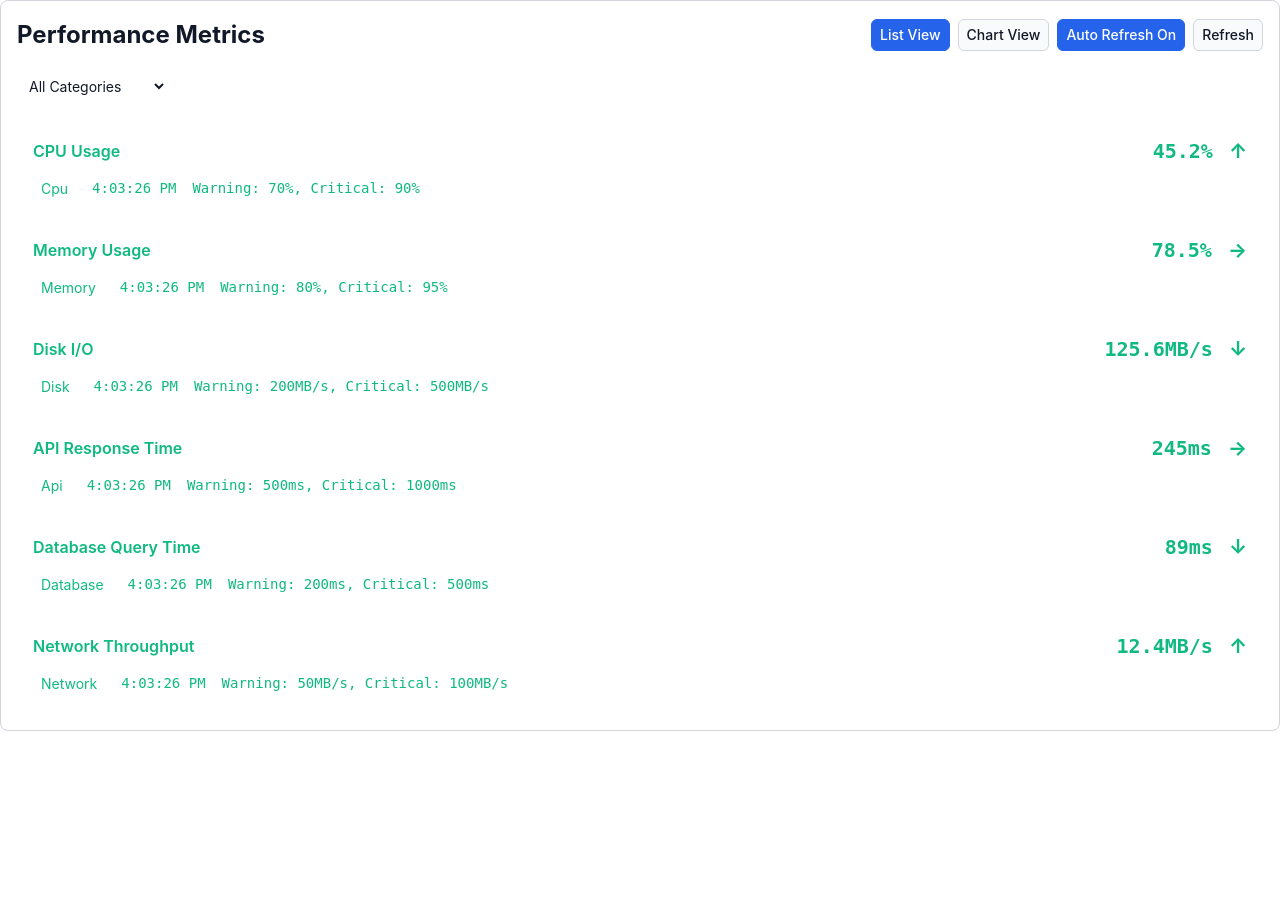
PerformanceMetrics Component › toggles auto refresh
Expected: the heading "Performance Metrics" is shown, [17, 17, 265, 53]
// Click to turn off
Click the button "Auto Refresh On". click: (1121, 35)
box: [1057, 19, 1185, 51]
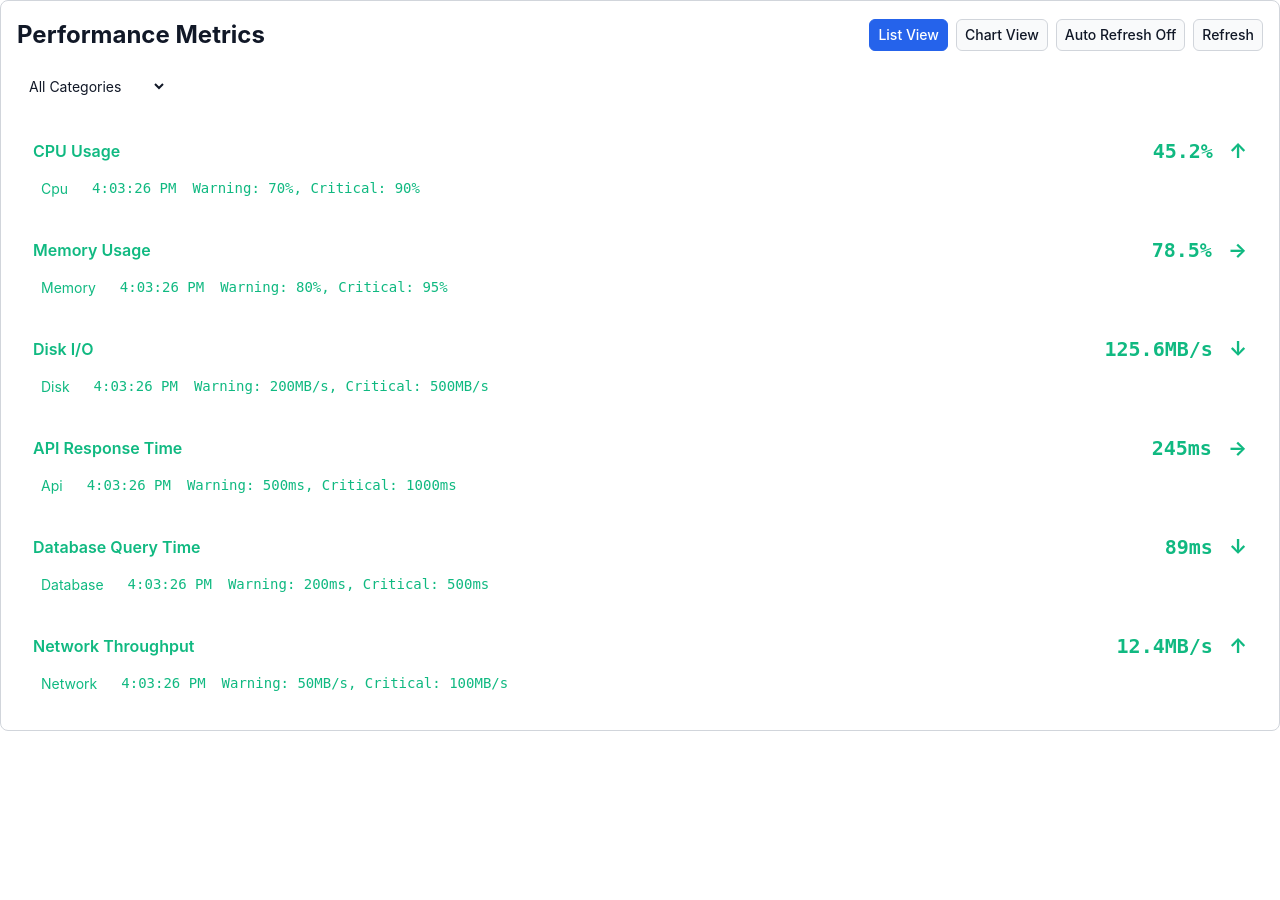
Expected: the text "Auto Refresh Off" is shown, [1065, 26, 1176, 44]
// Click to turn on
Click the button "Auto Refresh Off". click: (1121, 35)
box: [1056, 19, 1185, 51]
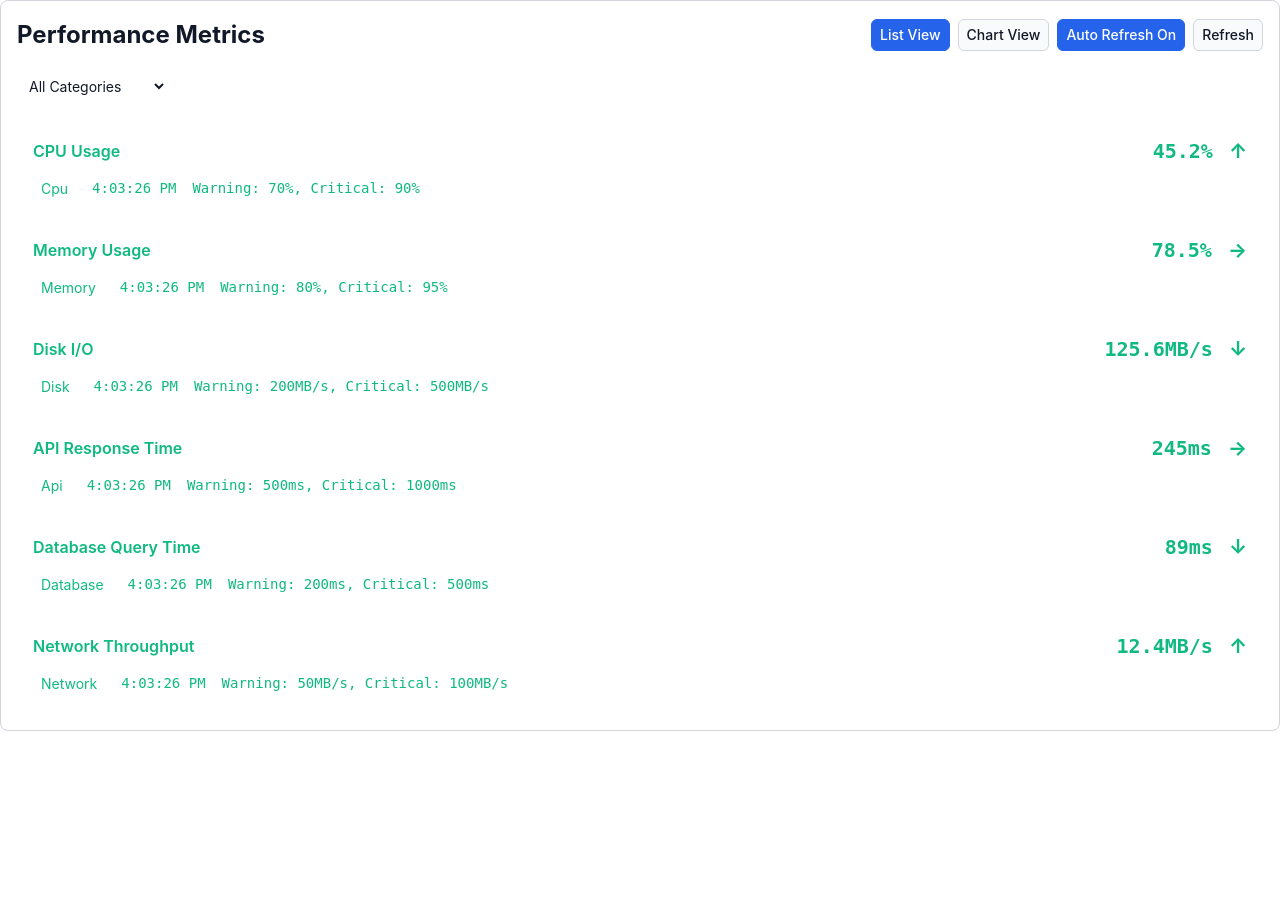
Expected: the text "Auto Refresh On" is shown, [1066, 26, 1176, 44]
